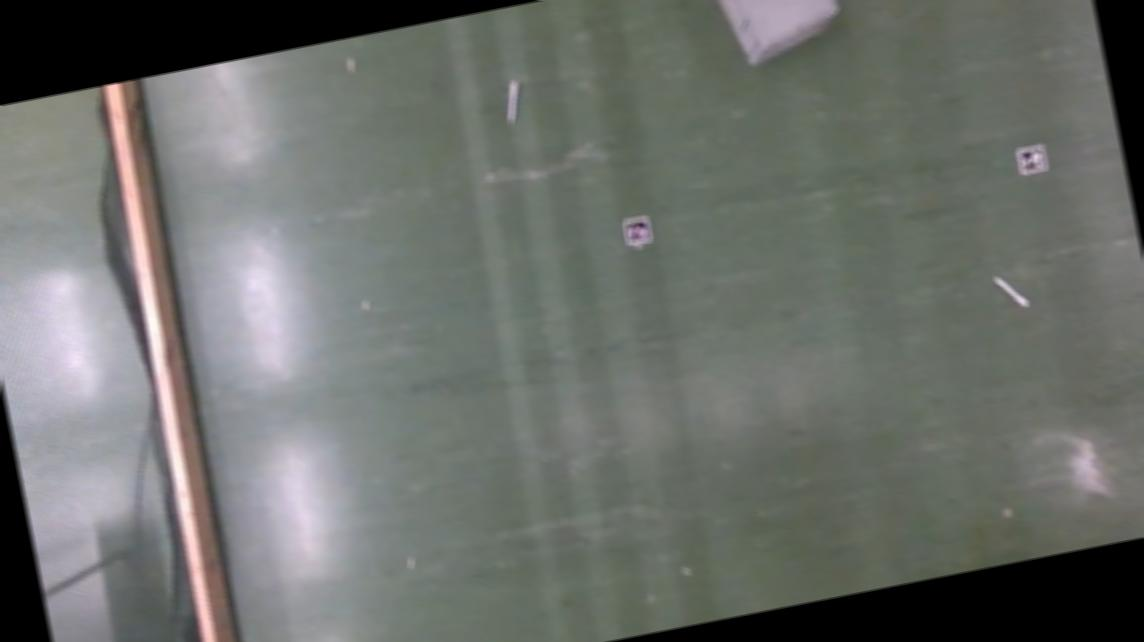probes: (994, 272, 1026, 312), (499, 82, 522, 126)
rako: (698, 0, 847, 74)
